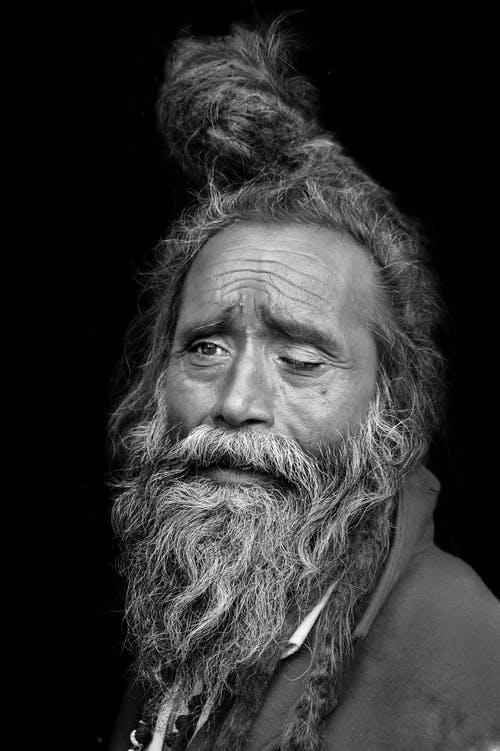Wrinkles: (216, 269, 330, 303), (223, 277, 314, 306), (248, 260, 327, 284), (253, 248, 321, 261), (224, 286, 271, 302), (207, 259, 241, 266), (220, 245, 251, 251), (197, 289, 220, 295), (220, 290, 224, 307)
